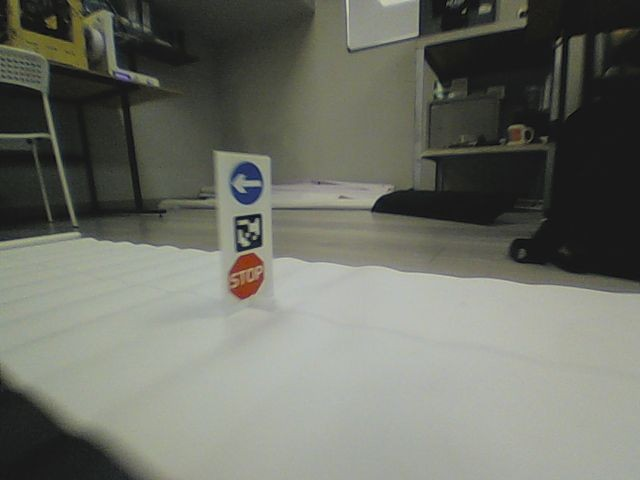Stop: (227, 252, 266, 300)
